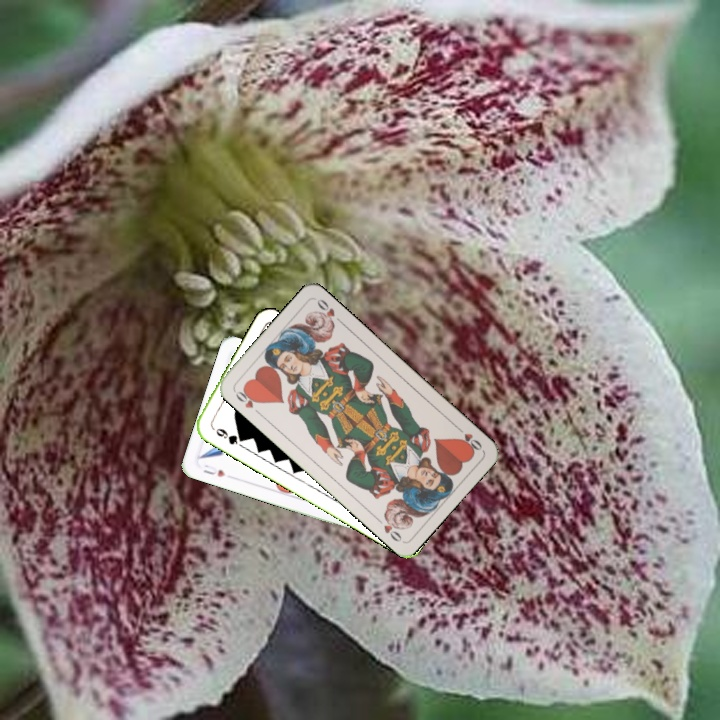G9: (212, 424, 247, 447)
HO: (230, 384, 264, 417), (452, 422, 484, 454)
HU: (199, 460, 228, 480)
